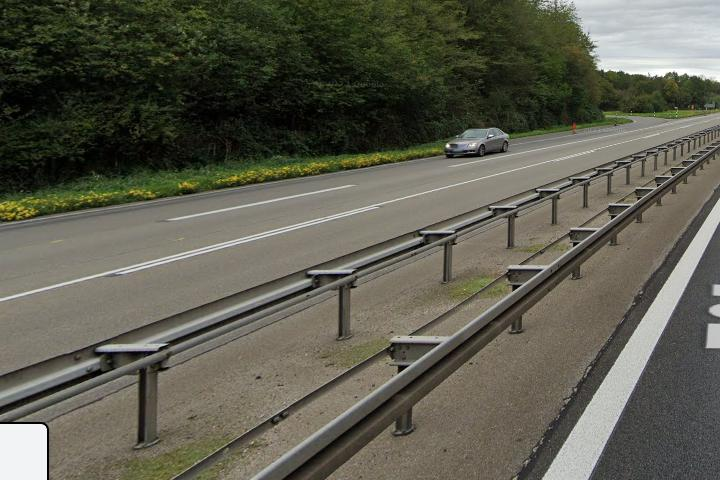vehicle: (439, 125, 513, 160)
